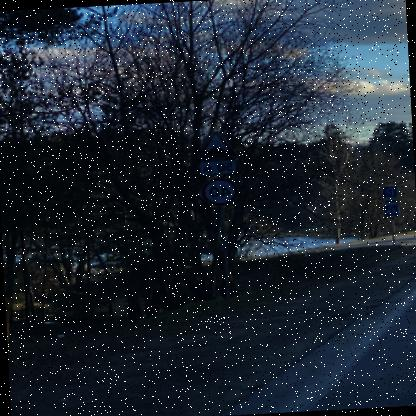crosswalk: (384, 202, 400, 215)
speedlimit: (202, 176, 239, 204)
